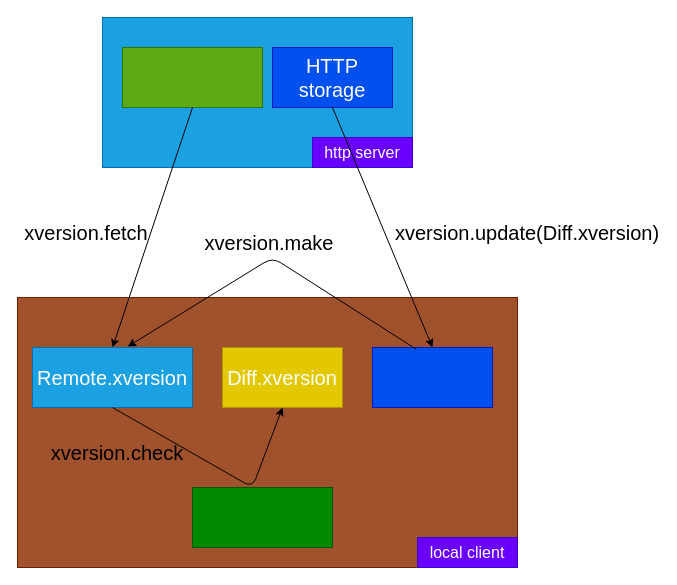
This 677x585 diagram has some shape labels left out. Here are the shapes that lost their labels. From the top down, the centre of each, then its label:
At pixel 192 77: "HTTP.xversion".
At pixel 432 377: "Local storage".
At pixel 262 517: "Local.xversion".
